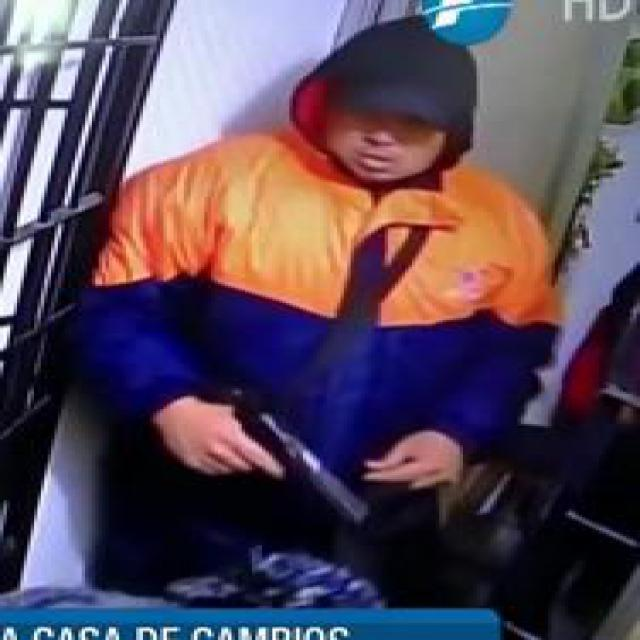gun: (180, 402, 378, 528)
